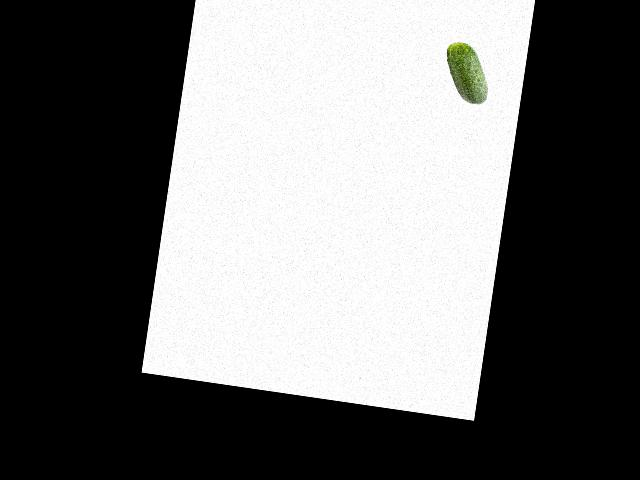cucumber: (440, 40, 494, 106)
